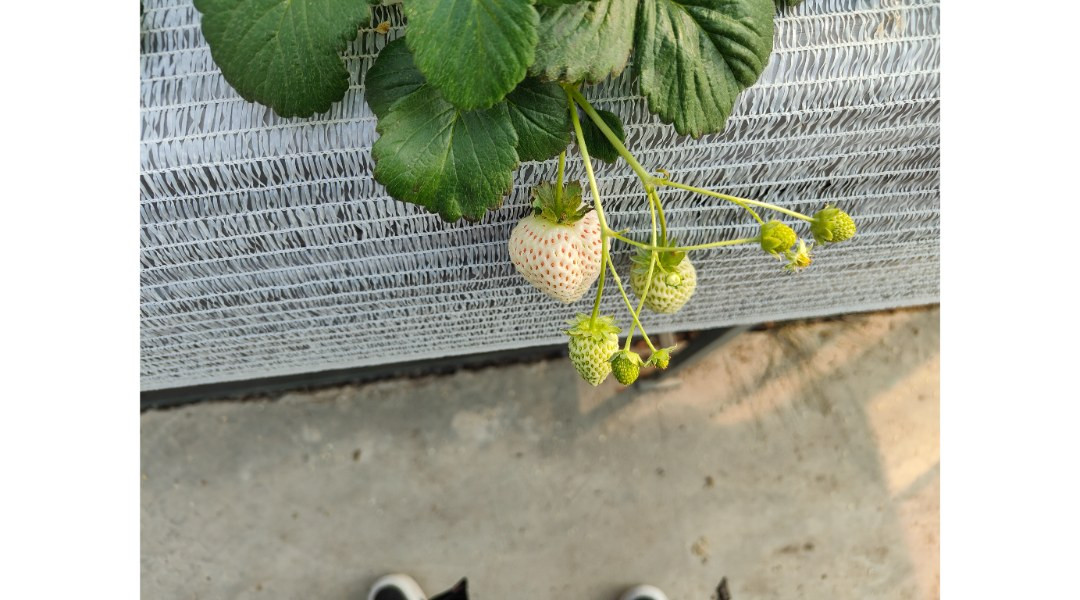berry: (512, 176, 603, 303), (627, 234, 698, 325), (566, 300, 615, 398), (754, 219, 810, 269), (810, 205, 859, 247), (612, 346, 647, 389), (652, 348, 677, 373)
strain: (598, 91, 645, 170), (669, 178, 735, 203), (571, 110, 596, 172), (745, 196, 806, 219)
